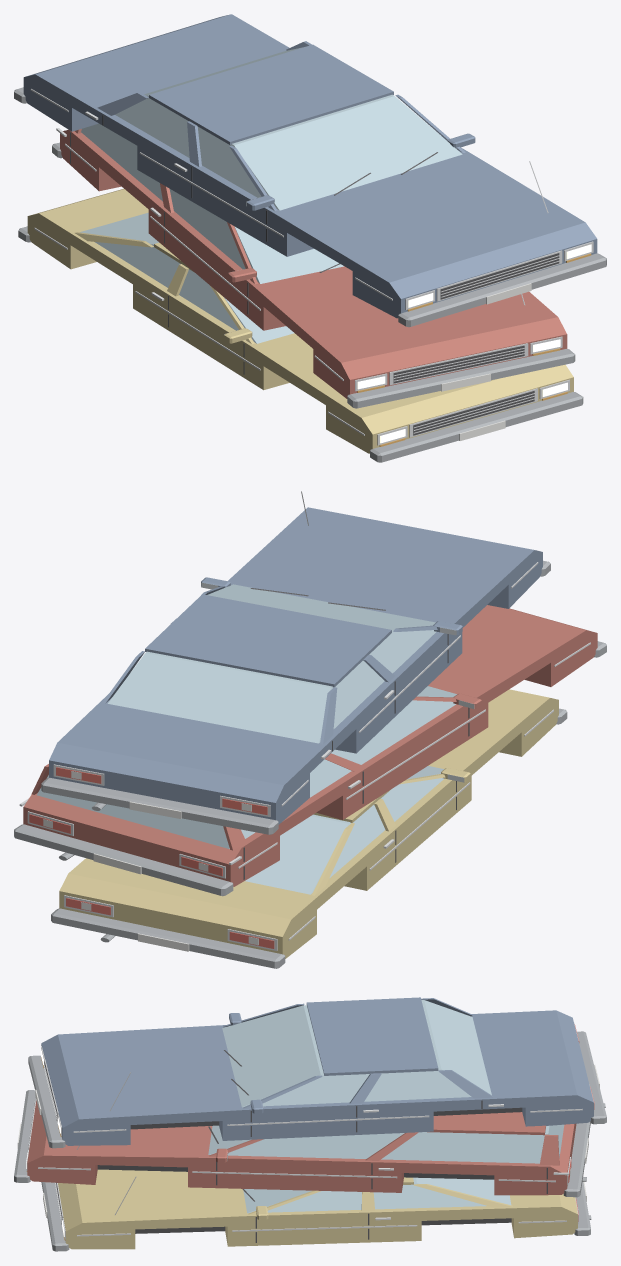
Rendered from car_stack_3.glb.
3 renders of one model, top to bottom at view 1: azimuth 30°, elevation 25°; view 2: azimuth 150°, elevation 25°; view 3: azimuth 270°, elevation 25°, orthographic. The views are drawn at different scales.
Visible parts, largest first — view 1: car_stack_3_car_b, car_stack_3_glass, car_stack_3_car_r, car_stack_3_car_y, car_stack_3_steel, car_stack_3_chrome, car_stack_3_dark, car_stack_3_lamp_glass, car_stack_3_paint_w; view 2: car_stack_3_car_b, car_stack_3_glass, car_stack_3_car_r, car_stack_3_car_y, car_stack_3_steel, car_stack_3_chrome, car_stack_3_neon_r, car_stack_3_paint_w; view 3: car_stack_3_car_b, car_stack_3_glass, car_stack_3_car_y, car_stack_3_car_r, car_stack_3_steel, car_stack_3_chrome, car_stack_3_rubber, car_stack_3_dark.
Part boxes in pixels (<box>): car_stack_3_car_b: <box>23,14,597,318</box>; car_stack_3_glass: <box>80,47,462,343</box>; car_stack_3_car_r: <box>60,129,567,398</box>; car_stack_3_car_y: <box>27,188,573,453</box>; car_stack_3_steel: <box>14,87,606,462</box>; car_stack_3_chrome: <box>30,89,593,445</box>; car_stack_3_dark: <box>70,115,559,435</box>; car_stack_3_lamp_glass: <box>357,244,591,443</box>; car_stack_3_paint_w: <box>441,283,531,440</box>; car_stack_3_car_b: <box>49,507,542,824</box>; car_stack_3_glass: <box>37,584,456,894</box>; car_stack_3_car_r: <box>23,605,597,886</box>; car_stack_3_car_y: <box>59,689,558,958</box>; car_stack_3_steel: <box>14,560,606,968</box>; car_stack_3_chrome: <box>19,491,590,950</box>; car_stack_3_neon_r: <box>29,767,274,948</box>; car_stack_3_paint_w: <box>43,771,258,951</box>; car_stack_3_car_b: <box>41,997,593,1145</box>; car_stack_3_glass: <box>208,1000,564,1213</box>; car_stack_3_car_y: <box>58,1169,577,1249</box>; car_stack_3_car_r: <box>27,1100,576,1195</box>; car_stack_3_steel: <box>14,1031,606,1251</box>; car_stack_3_chrome: <box>26,1022,594,1239</box>; car_stack_3_rubber: <box>97,1107,522,1233</box>; car_stack_3_dark: <box>28,1050,547,1242</box>.
Bounding box in the file's own units: 2.39 × 1.81 × 5.37.
